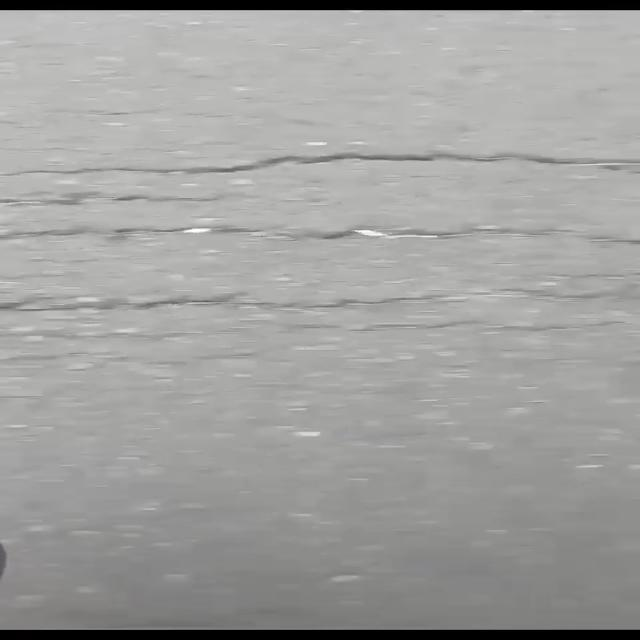Melintang: (0, 138, 640, 185), (0, 210, 640, 254)
